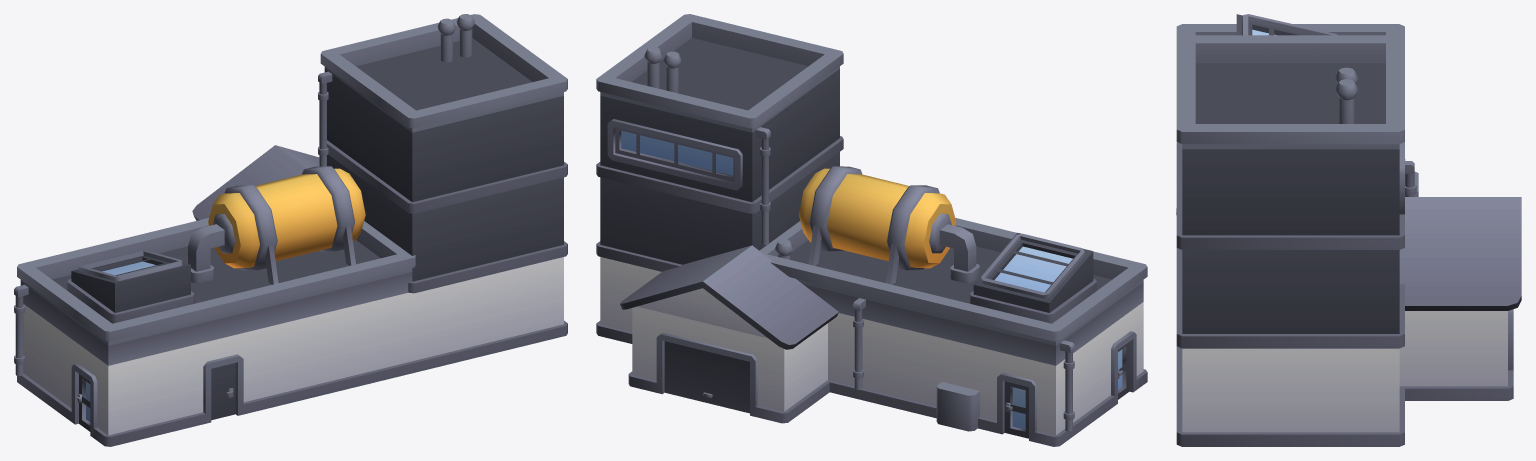
The model's file is building-r.glb.
The picture shows the model from 3 angles, left to right: view 1: azimuth 30°, elevation 25°; view 2: azimuth 150°, elevation 25°; view 3: azimuth 270°, elevation 25°; orthographic projection. The views are drawn at different scales.
Parts seen in each view (by area): view 1: building-r; view 2: building-r; view 3: building-r.
Part boxes in pixels (left/top/right/bottom): building-r: left=14, top=14, right=567, bottom=446; building-r: left=596, top=14, right=1147, bottom=446; building-r: left=1176, top=14, right=1521, bottom=446.
Size of the model in its own units: 2.48 by 1.39 by 1.27.
1 material, 1 textured.
